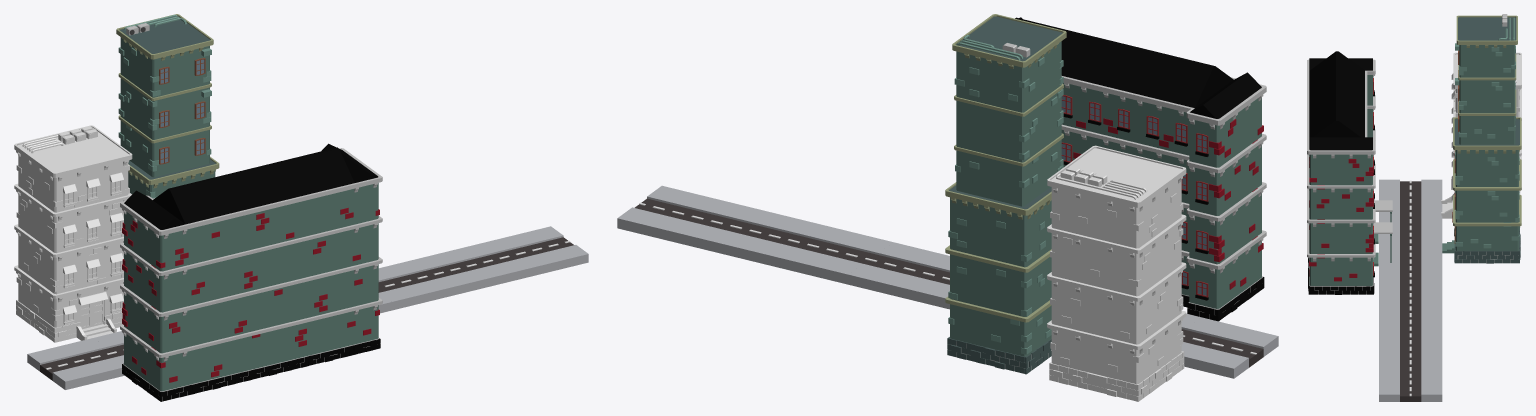
3 renders of one model, left to right at view 1: azimuth 30°, elevation 25°; view 2: azimuth 150°, elevation 25°; view 3: azimuth 270°, elevation 25°, orthographic. The views are drawn at different scales.
Parts seen in each view (by area): view 1: 4Story_Wide_2Doors_Roof_Mat, 4Story, 6Story_Stack_Mat, Street_Straight.002, Street_Straight.007, Street_Straight.004, Street_Straight.006, Street_Straight.001; view 2: 6Story_Stack_Mat, 4Story_Wide_2Doors_Roof_Mat, 4Story, Street_Straight.006, Street_Straight.004, Street_Straight.007, Street_Straight.002, Street_Straight.005; view 3: 4Story_Wide_2Doors_Roof_Mat, 6Story_Stack_Mat, Street_Straight.004, Street_Straight.003, Street_Straight, Street_Straight.005, Street_Straight.007, Street_Straight.006, Street_Straight.002, Street_Straight.001, 4Story.
Boxes of the visible parts, <box> form: 4Story_Wide_2Doors_Roof_Mat: <box>120,143,382,401</box>; 4Story: <box>14,125,132,342</box>; 6Story_Stack_Mat: <box>116,14,219,198</box>; Street_Straight.002: <box>27,338,124,389</box>; Street_Straight.007: <box>420,242,523,294</box>; Street_Straight.004: <box>486,226,588,278</box>; Street_Straight.006: <box>378,258,457,310</box>; Street_Straight.001: <box>93,331,123,360</box>; 6Story_Stack_Mat: <box>945,14,1066,374</box>; 4Story_Wide_2Doors_Roof_Mat: <box>1015,17,1266,321</box>; 4Story: <box>1047,145,1186,401</box>; Street_Straight.006: <box>771,223,892,284</box>; Street_Straight.004: <box>617,185,738,246</box>; Street_Straight.007: <box>694,204,815,265</box>; Street_Straight.002: <box>1181,317,1278,378</box>; Street_Straight.005: <box>848,242,949,303</box>; 4Story_Wide_2Doors_Roof_Mat: <box>1307,51,1392,294</box>; 6Story_Stack_Mat: <box>1442,14,1521,263</box>; Street_Straight.004: <box>1379,368,1442,401</box>; Street_Straight.003: <box>1379,260,1442,288</box>; Street_Straight: <box>1379,233,1442,261</box>; Street_Straight.005: <box>1379,287,1442,315</box>; Street_Straight.007: <box>1379,341,1442,369</box>; Street_Straight.006: <box>1379,314,1442,342</box>; Street_Straight.002: <box>1379,179,1442,207</box>; Street_Straight.001: <box>1379,206,1442,234</box>; 4Story: <box>1441,52,1521,227</box>.
Bounding box in the file's own units: 15.99 × 7.97 × 6.76.
